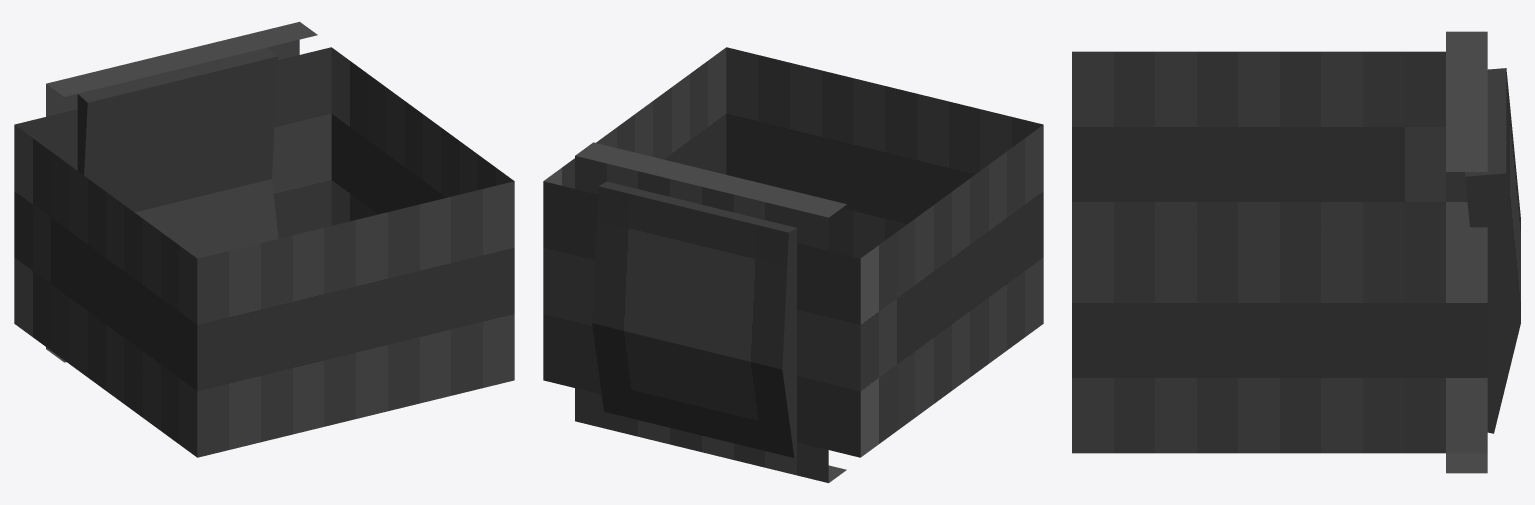
File: civilian_kneepads_p_l.obj
The picture shows the model from 3 angles, left to right: view 1: azimuth 30°, elevation 25°; view 2: azimuth 150°, elevation 25°; view 3: azimuth 270°, elevation 25°; orthographic projection. The views are drawn at different scales.
Parts seen in each view (by area): view 1: mesh; view 2: mesh; view 3: mesh.
Boxes of the visible parts, x1,y1,x2,y2 form: mesh: (14,21,514,457); mesh: (543,47,1043,483); mesh: (1072,31,1520,473).
Size of the model in its own units: 0.3125 by 0.25 by 0.3375.
